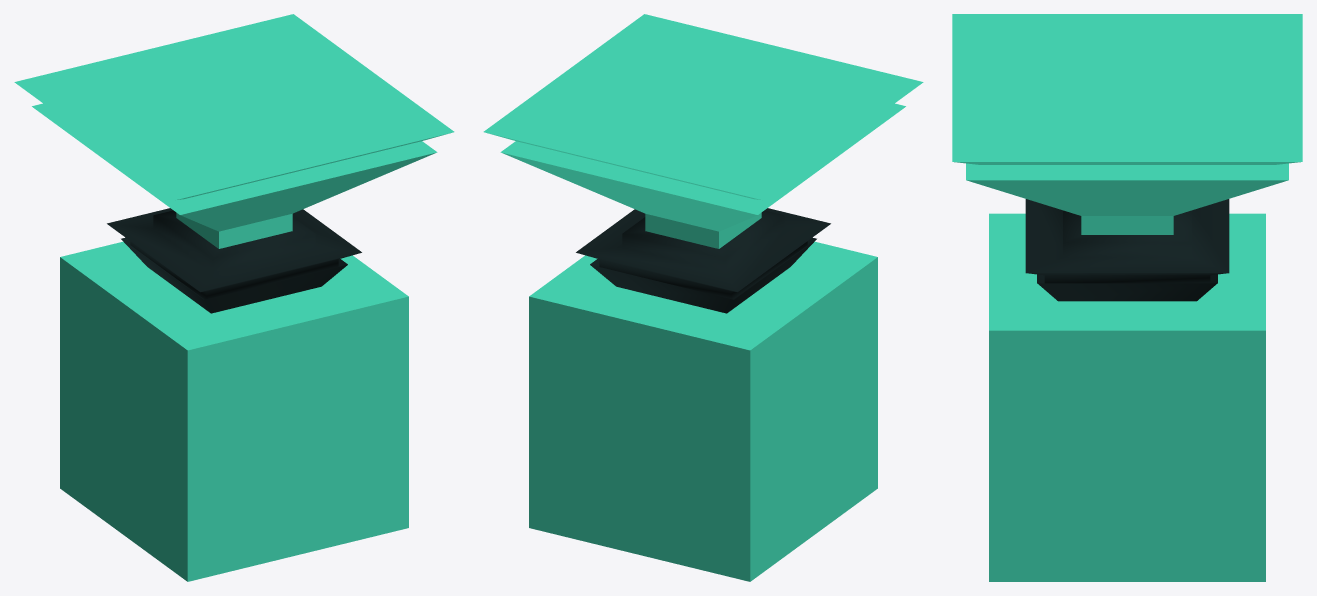
File: TestSendModelFromUnityCHANGED.fbx
3 renders of one model, left to right at view 1: azimuth 30°, elevation 25°; view 2: azimuth 150°, elevation 25°; view 3: azimuth 270°, elevation 25°, orthographic. The views are drawn at different scales.
Visible parts, largest first — view 1: Cube, Pillar_Top__1_; view 2: Cube, Pillar_Top__1_; view 3: Cube, Pillar_Top__1_.
Boxes of the visible parts, box(x1,y1,x2,y2) form: Cube: box(14, 14, 454, 581); Pillar_Top__1_: box(107, 208, 361, 313); Cube: box(483, 14, 923, 581); Pillar_Top__1_: box(576, 208, 830, 313); Cube: box(952, 14, 1302, 581); Pillar_Top__1_: box(1025, 199, 1229, 301).
Size of the model in its own units: 253 by 347 by 253.
